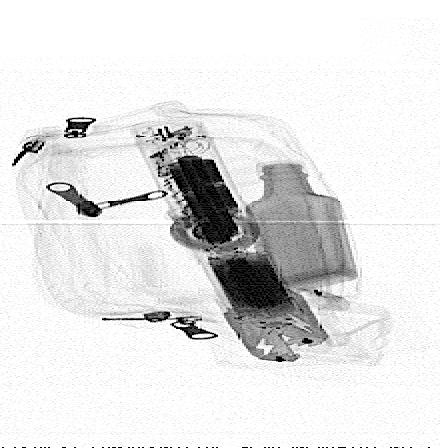Baton: (129, 118, 333, 365)
